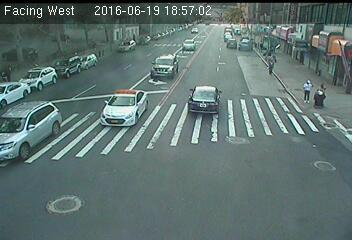neg: (132, 36, 151, 62), (308, 34, 326, 58), (289, 41, 306, 64), (334, 53, 351, 75), (69, 32, 84, 52), (249, 36, 261, 53), (268, 36, 278, 50)
pos: (297, 77, 314, 100), (1, 62, 16, 83), (264, 56, 278, 76)
